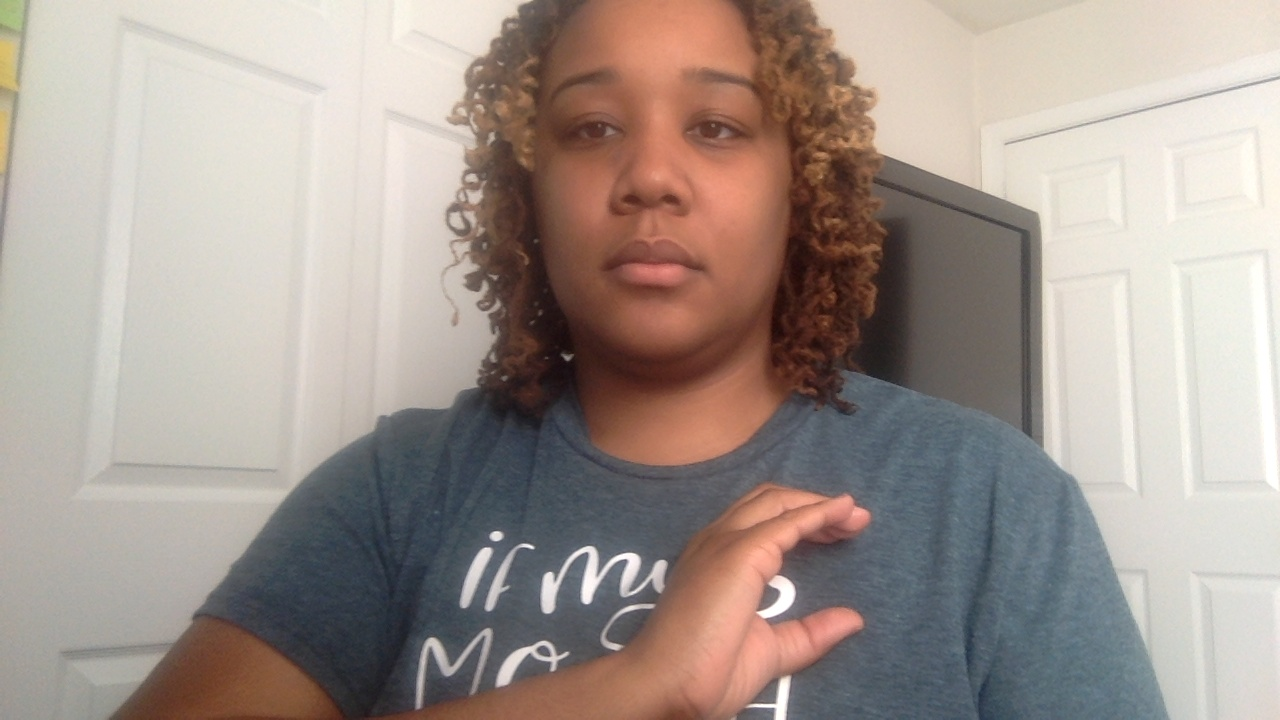police: (557, 360, 906, 720)
